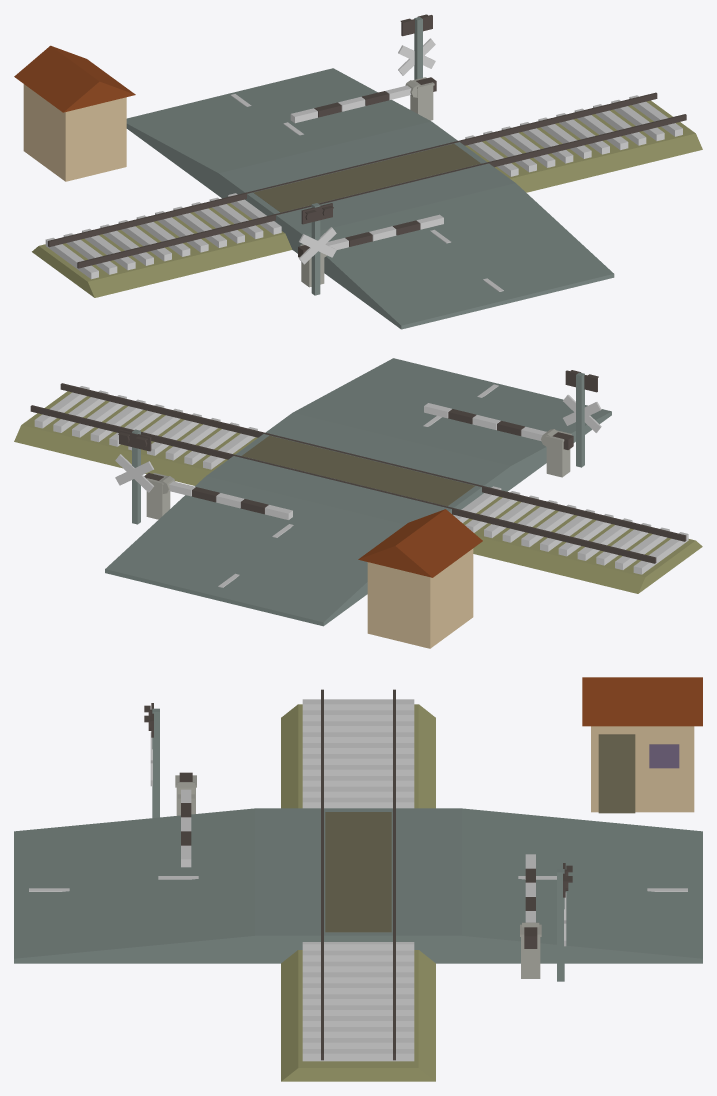
Rendered from SM_PasoNivel_90E_v0_Teja_LOD0.fbx.
3 views of the same model, one above another, from view 1: azimuth 30°, elevation 25°; view 2: azimuth 150°, elevation 25°; view 3: azimuth 270°, elevation 25° (orthographic). The views are drawn at different scales.
Parts seen in each view (by area): view 1: SM_paso_nivel_kit_v20_LOD0, Barrera_1, Barrera_2; view 2: SM_paso_nivel_kit_v20_LOD0, Barrera_2, Barrera_1; view 3: SM_paso_nivel_kit_v20_LOD0, Barrera_2, Barrera_1.
Part boxes in pixels (x1,y1,x2,y2): SM_paso_nivel_kit_v20_LOD0: (14,14,702,329); Barrera_1: (290,77,436,123); Barrera_2: (298,214,443,257); SM_paso_nivel_kit_v20_LOD0: (14,358,702,648); Barrera_2: (424,403,573,449); Barrera_1: (144,473,292,519); SM_paso_nivel_kit_v20_LOD0: (14,677,702,1081); Barrera_2: (177,772,194,867); Barrera_1: (522,854,539,948).
Size of the model in its own units: 20 by 3 by 16.
